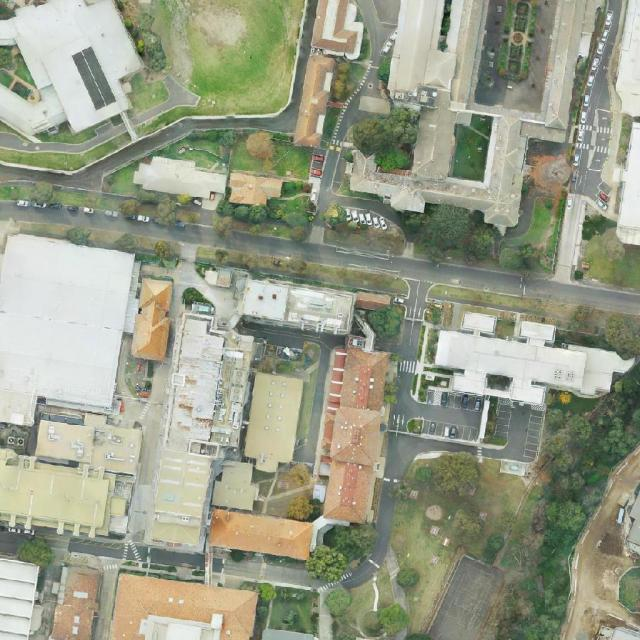building: (144, 310, 259, 556), (347, 100, 530, 230), (306, 335, 399, 526), (432, 329, 635, 415), (385, 0, 484, 113), (112, 573, 259, 640), (520, 0, 588, 143), (232, 273, 357, 338), (205, 508, 316, 576), (130, 145, 231, 213), (241, 372, 304, 475), (49, 562, 106, 640), (130, 277, 176, 363), (0, 557, 39, 640), (211, 458, 261, 511), (225, 171, 283, 211), (518, 321, 557, 348), (461, 311, 496, 333), (355, 291, 392, 310)
dryland: (560, 445, 640, 639)
greenland: (380, 431, 531, 565), (385, 497, 466, 634), (397, 200, 541, 272), (151, 122, 314, 180), (216, 177, 317, 242), (116, 0, 193, 84), (336, 565, 413, 640), (348, 102, 420, 175), (582, 215, 640, 288), (448, 111, 493, 182), (258, 585, 321, 633), (0, 40, 42, 111), (117, 186, 181, 227), (310, 525, 376, 563), (302, 541, 351, 589), (12, 531, 58, 576), (319, 583, 356, 620), (367, 305, 405, 338)
metalled_road: (0, 0, 363, 263), (44, 532, 327, 597), (109, 360, 171, 542), (569, 0, 621, 213), (473, 0, 556, 113), (384, 432, 477, 487), (84, 209, 218, 247), (327, 57, 375, 148), (331, 175, 402, 231), (396, 278, 431, 362), (388, 413, 480, 443), (488, 400, 532, 462), (315, 145, 350, 214), (327, 97, 370, 141), (370, 495, 397, 565), (413, 402, 482, 428), (393, 371, 428, 421), (342, 558, 379, 595), (0, 525, 22, 556), (366, 66, 381, 91), (492, 450, 523, 459), (364, 91, 370, 96)
